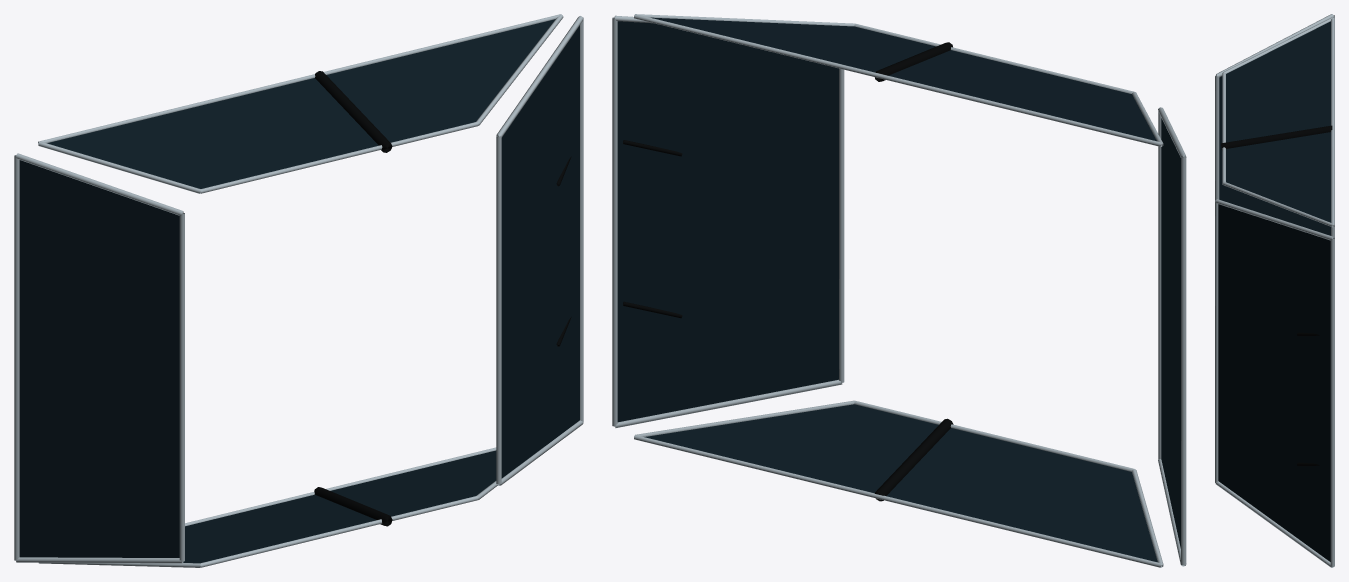
File: Car70Cabin1.obj
3 renders of one model, left to right at view 1: azimuth 30°, elevation 25°; view 2: azimuth 150°, elevation 25°; view 3: azimuth 270°, elevation 25°, orthographic. The views are drawn at different scales.
Parts seen in each view (by area): view 1: Car70Cabin1; view 2: Car70Cabin1; view 3: Car70Cabin1.
Part boxes in pixels (x1,y1,x2,y2): Car70Cabin1: [14, 14, 583, 567]; Car70Cabin1: [612, 14, 1186, 567]; Car70Cabin1: [1215, 14, 1334, 567].
Size of the model in its own units: 230 by 165 by 51.82.
